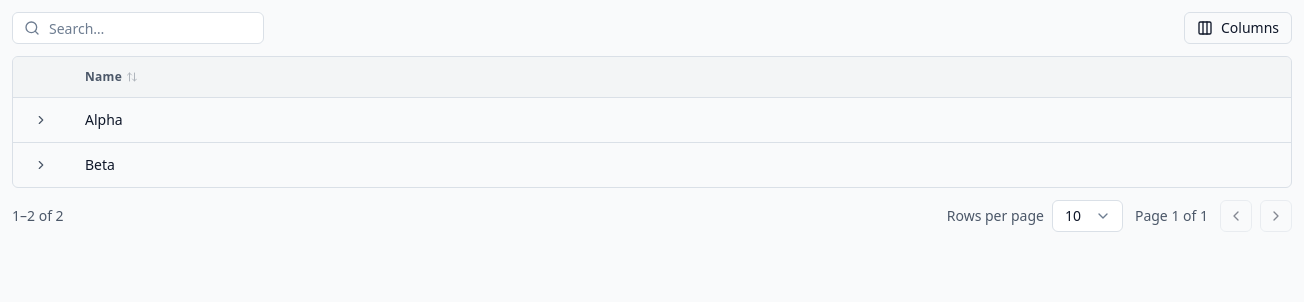
Test: DataTable › expandable sub-rows › renderExpandedRow renders a custom panel below the row
This screenshot has width=1304, height=302.
Expected: the text "Details for Alpha" is not shown
Click the button named "Expand row" next to "Alpha".
click(41, 120)  # box 29,108 -> 53,132
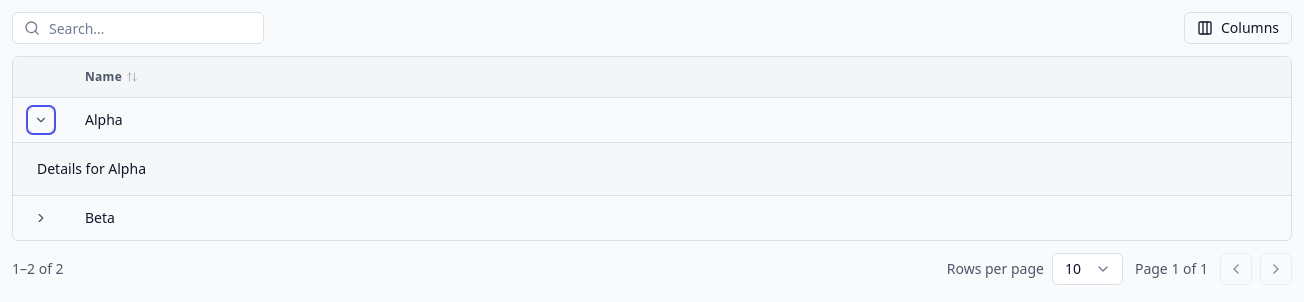
Result: the text "Details for Alpha" is shown at 37,159 -> 146,178
